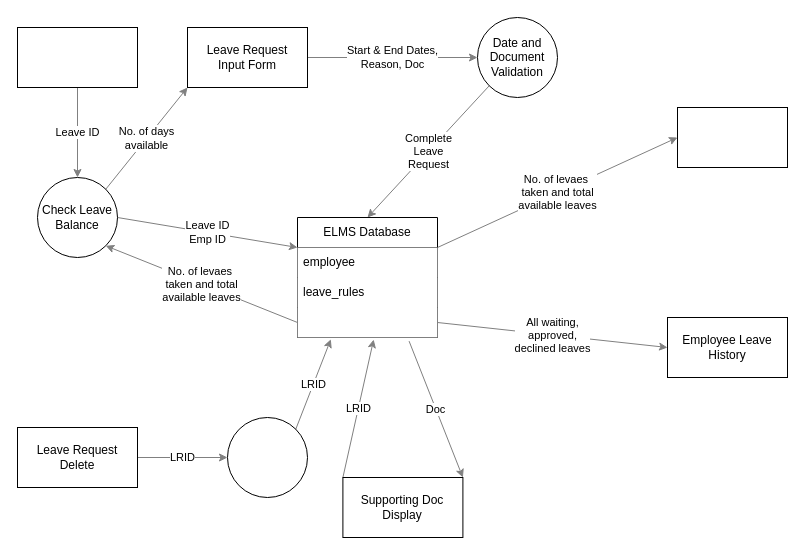
Some shapes in this 805 by 555 pixel diagram are drawn without their labels. The shapes that lost their labels are listed below. From the top down, each one's box as (x1, y1, x2, y2) in pixels, then its label:
(16, 26, 138, 88): Employee Leave Request
(676, 106, 788, 168): Leave Balance Display
(297, 307, 437, 337): leave_request
(226, 416, 308, 498): Delete Request Validation
